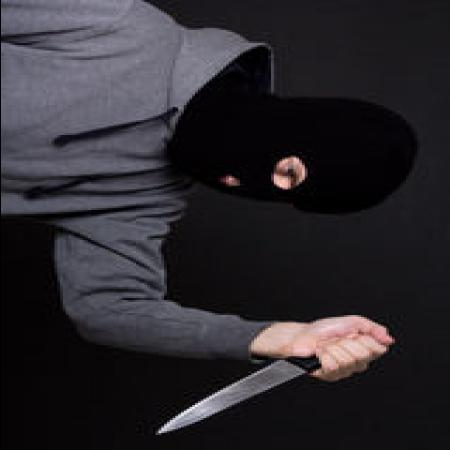long weapon: (149, 326, 399, 442)
